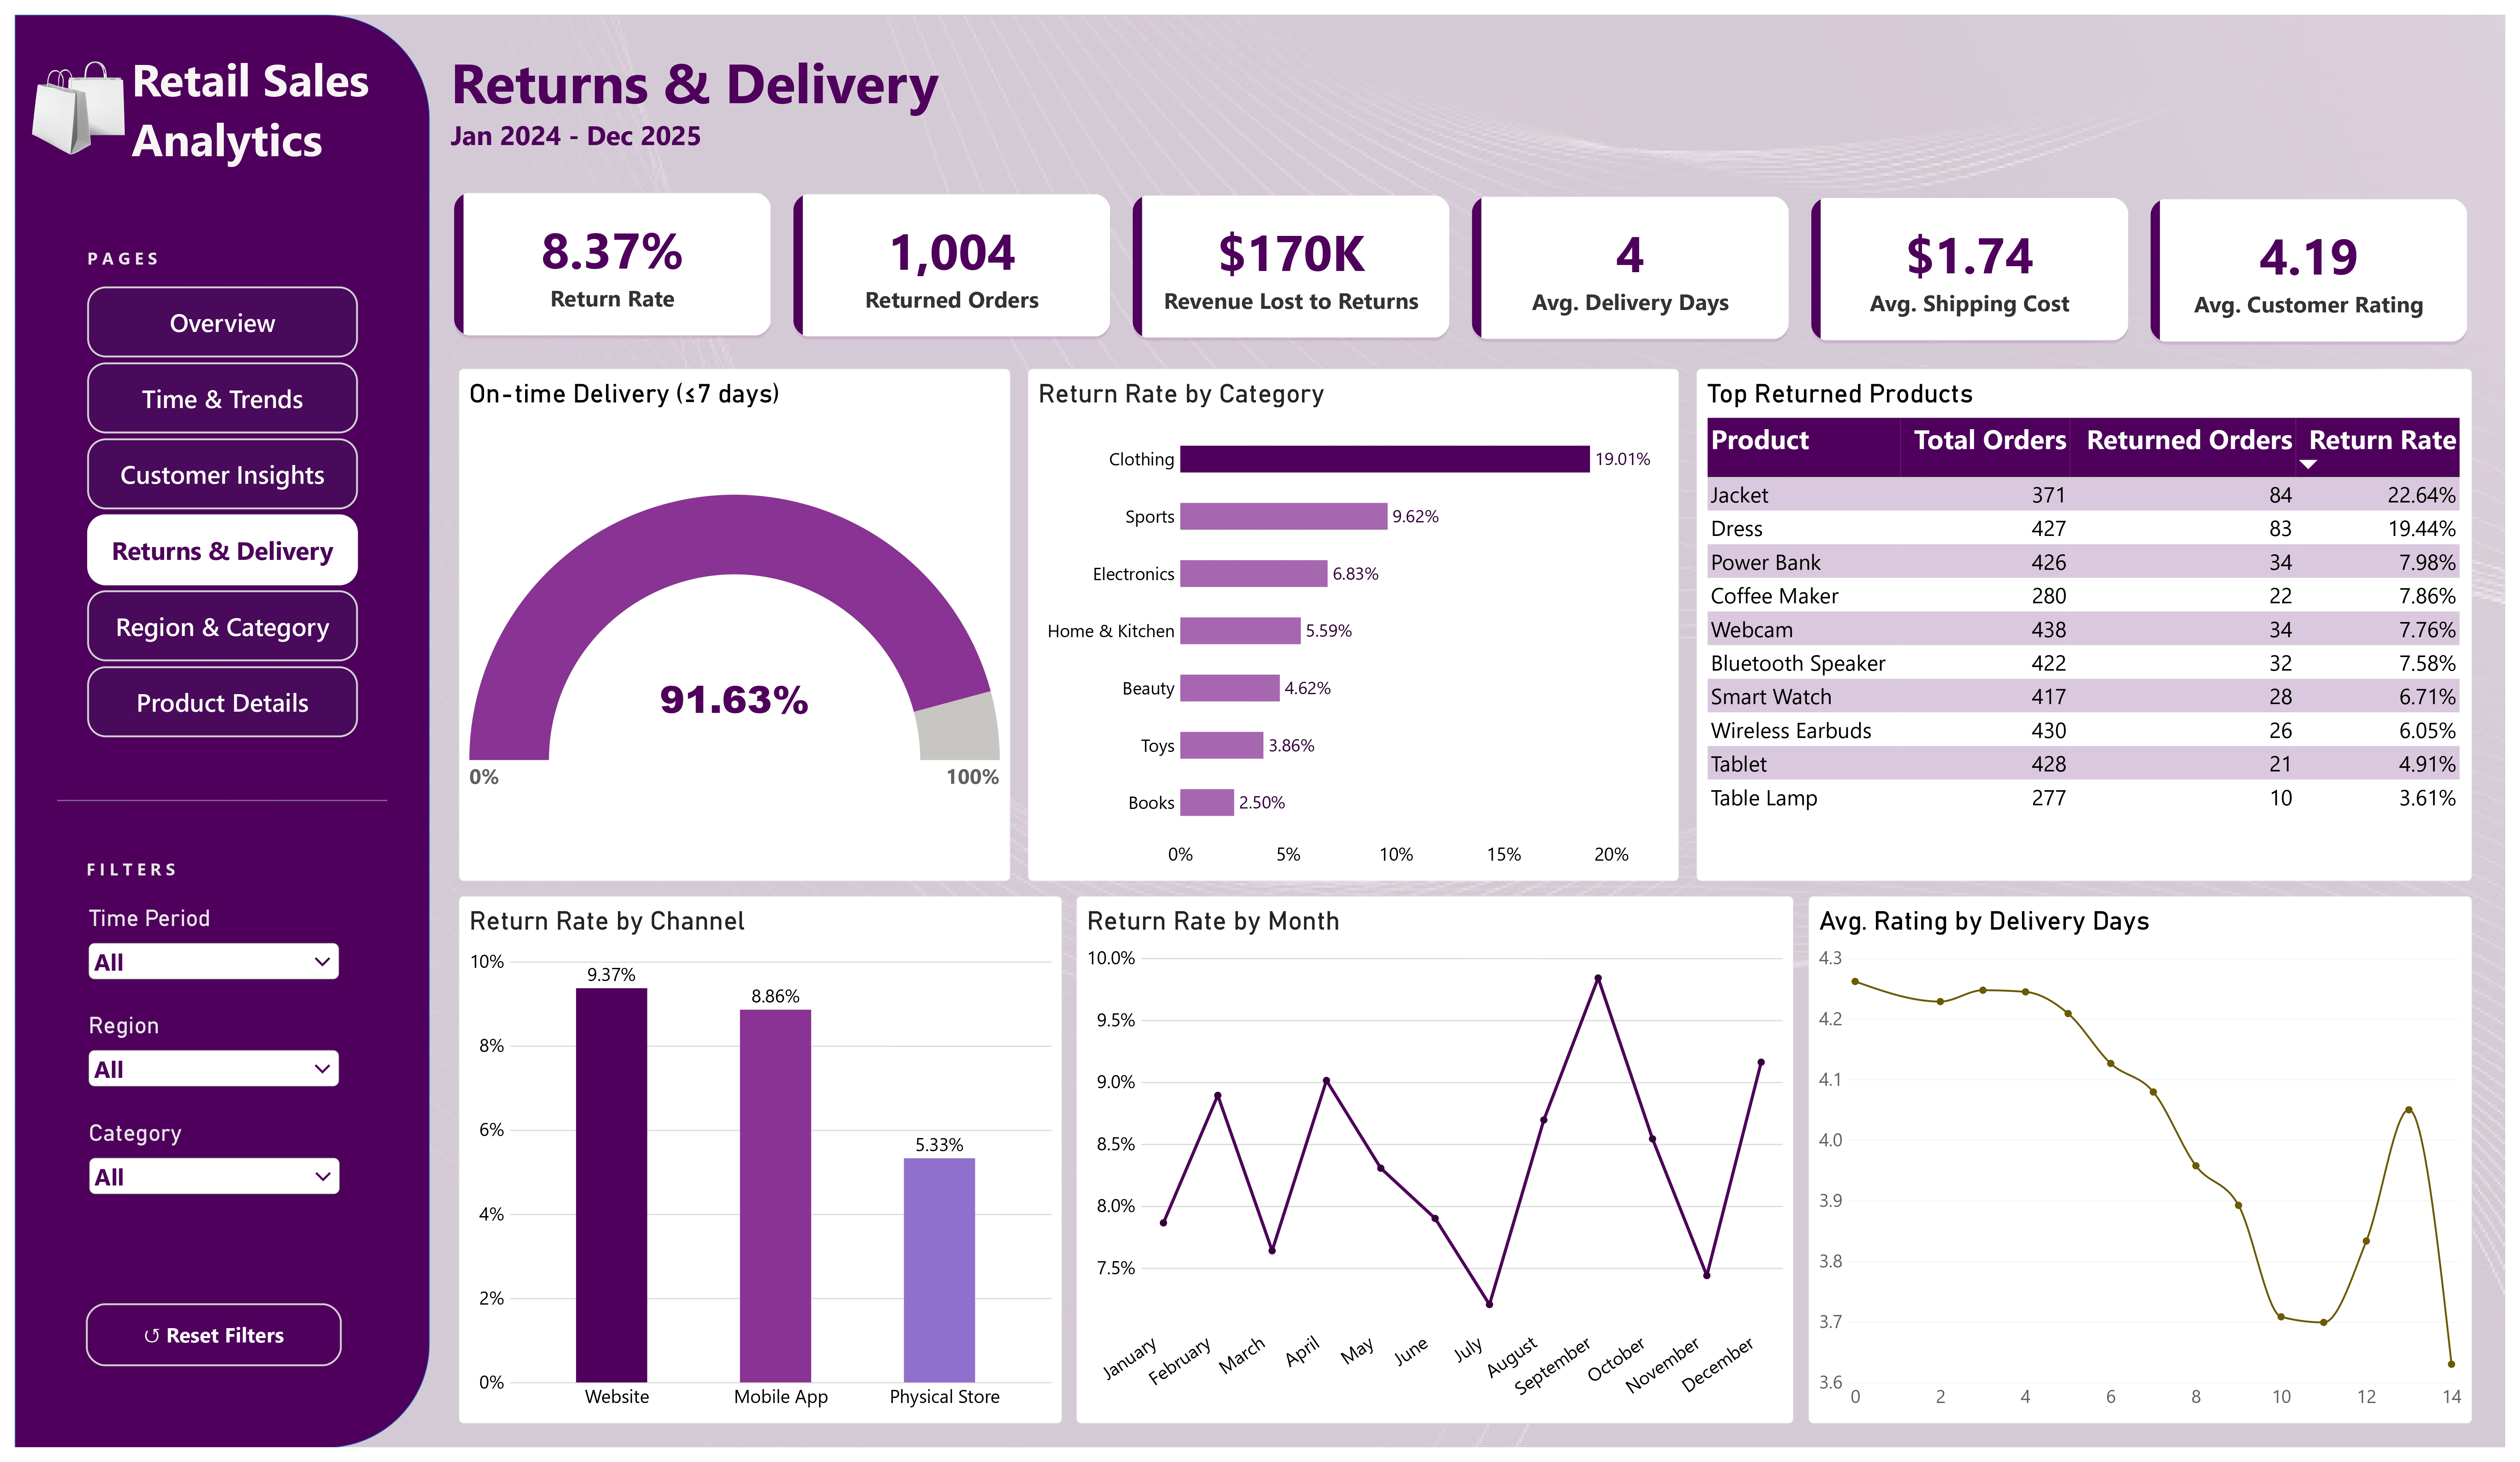

The page's visual inventory and layout, read from the dashboard file:
{"tool":"powerbi","page":{"name":"Returns & Delivery","canvas":[4000,2300],"ordinal":3},"visuals":[{"type":"shape","box":[0,0,666.3,2300.8],"z":0},{"type":"textbox","box":[186.7,53.3,419.4,215.6],"z":1000},{"type":"image","box":[0,35.3,203.8,227.3],"z":2000},{"type":"pageNavigator","box":[115.6,435.6,435.6,724.4],"z":3000},{"type":"textbox","box":[700,46.7,1236.7,143.3],"z":4000},{"type":"textbox","box":[700,163.3,420,70],"z":5000},{"type":"textbox","box":[116,372,132,40],"z":6000},{"type":"shape","box":[67.5,1150,530,222.5],"z":7000},{"type":"textbox","box":[115,1352.5,145,40],"z":8000},{"type":"listSlicer","title":"Time Period","fields":{"Values":["Date.Year"]},"box":[101.8,1413.6,435,160],"z":9000},{"type":"listSlicer","title":"Region","fields":{"Values":["Table1.region"]},"box":[102.2,1586.2,435,160],"z":10000},{"type":"listSlicer","title":"Category","fields":{"Values":["Table1.product_category"]},"box":[102.5,1758.8,435,160],"z":11000},{"type":"actionButton","box":[113.8,2068.8,411.2,101.2],"z":12000},{"type":"cardVisual","fields":{"Data":["Table1.Return Rate"]},"box":[700,280,520,240],"z":13000},{"type":"cardVisual","fields":{"Data":["Table1.Returned Orders"]},"box":[1245,282,520,240],"z":14000},{"type":"cardVisual","title":"Average Order Value","fields":{"Data":["Table1.Avg. Delivery Days"]},"box":[2335,286,520,240],"z":15000},{"type":"cardVisual","fields":{"Data":["Table1.Avg. Shipping Cost"]},"box":[2880,288,520,240],"z":16000},{"type":"cardVisual","fields":{"Data":["Table1.Revenue Lost"]},"box":[1790,284,520,240],"z":17000},{"type":"cardVisual","fields":{"Data":["Table1.Avg. Customer Rating"]},"box":[3425,290,520,240],"z":18000},{"type":"gauge","title":"On-time Delivery (≤7 days)","fields":{"Y":["Table1.Delivery Performance Rate"]},"box":[713.4,568.3,885.8,823.1],"z":19000},{"type":"clusteredBarChart","title":"Return Rate by Category","fields":{"Category":["Table1.product_category"],"Y":["Table1.Return Rate"]},"box":[1626.6,568.3,1046.5,823.1],"z":20000},{"type":"tableEx","title":"Top Returned Products","fields":{"Values":["Table1.product_name","Table1.Total Orders","Table1.Returned Orders","Table1.Return Rate"]},"box":[2700.6,568.3,1246.4,823.1],"z":21000},{"type":"clusteredColumnChart","title":"Return Rate by Channel","fields":{"Category":["Table1.order_channel"],"Y":["Table1.Return Rate"]},"box":[713.4,1415,968.1,846.6],"z":22000},{"type":"lineChart","title":"Return Rate by Month","fields":{"Category":["Date.Month"],"Y":["Table1.Return Rate"]},"box":[1705,1415,1152.4,846.6],"z":23000},{"type":"lineChart","title":"Avg. Rating by Delivery Days","fields":{"Category":["Table1.delivery_days"],"Y":["Table1.Avg. Customer Rating"]},"box":[2880.9,1415,1066.1,846.6],"z":24000}]}

Visuals, with their boxes on the page's 4000x2300 design canvas (x1, y1, x2, y2). These are canvas units, not pixel positions in the 2520x1462 screenshot, which may show the page scaled, cropped or inside an application window:
shape: (0, 0, 666, 2301)
textbox: (187, 53, 606, 269)
image: (0, 35, 204, 263)
pageNavigator: (116, 436, 551, 1160)
textbox: (700, 47, 1937, 190)
textbox: (700, 163, 1120, 233)
textbox: (116, 372, 248, 412)
shape: (68, 1150, 598, 1372)
textbox: (115, 1352, 260, 1392)
"Time Period" listSlicer: (102, 1414, 537, 1574)
"Region" listSlicer: (102, 1586, 537, 1746)
"Category" listSlicer: (102, 1759, 538, 1919)
actionButton: (114, 2069, 525, 2170)
cardVisual - Table1.Return Rate: (700, 280, 1220, 520)
cardVisual - Table1.Returned Orders: (1245, 282, 1765, 522)
"Average Order Value" cardVisual: (2335, 286, 2855, 526)
cardVisual - Table1.Avg. Shipping Cost: (2880, 288, 3400, 528)
cardVisual - Table1.Revenue Lost: (1790, 284, 2310, 524)
cardVisual - Table1.Avg. Customer Rating: (3425, 290, 3945, 530)
"On-time Delivery (≤7 days)" gauge: (713, 568, 1599, 1391)
"Return Rate by Category" clusteredBarChart: (1627, 568, 2673, 1391)
"Top Returned Products" tableEx: (2701, 568, 3947, 1391)
"Return Rate by Channel" clusteredColumnChart: (713, 1415, 1682, 2262)
"Return Rate by Month" lineChart: (1705, 1415, 2857, 2262)
"Avg. Rating by Delivery Days" lineChart: (2881, 1415, 3947, 2262)
